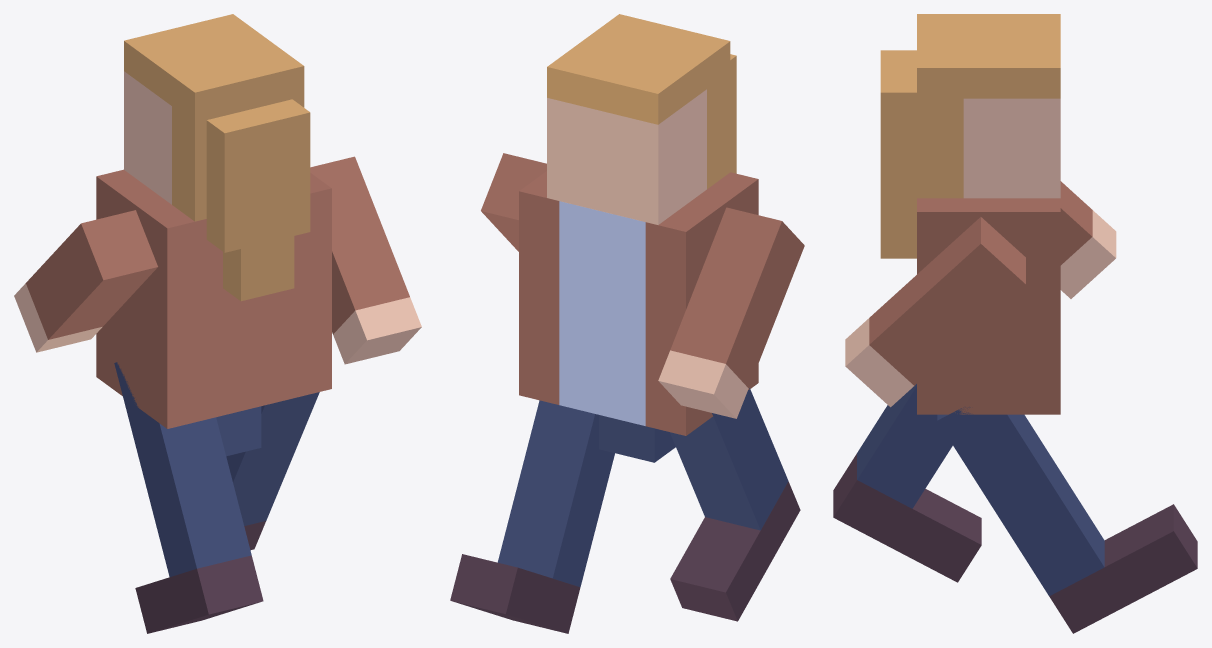
The model's file is new-person-jump-3.2.glb.
3 views of the same model, side by side, from view 1: azimuth 30°, elevation 25°; view 2: azimuth 150°, elevation 25°; view 3: azimuth 270°, elevation 25° (orthographic).
Parts seen in each view (by area): view 1: UNIT.067, UNIT.076, UNIT.073, UNIT.074, UNIT.075; view 2: UNIT.067, UNIT.075, UNIT.076, UNIT.074, UNIT.073; view 3: UNIT.067, UNIT.075, UNIT.073, UNIT.076, UNIT.074.
Part boxes in pixels (bbox=[...]): UNIT.067: bbox=[96, 14, 331, 456]; UNIT.076: bbox=[114, 362, 263, 633]; UNIT.073: bbox=[310, 156, 421, 364]; UNIT.074: bbox=[14, 210, 157, 352]; UNIT.075: bbox=[226, 392, 319, 550]; UNIT.067: bbox=[519, 14, 758, 462]; UNIT.075: bbox=[450, 400, 614, 633]; UNIT.076: bbox=[670, 388, 800, 621]; UNIT.074: bbox=[658, 207, 804, 418]; UNIT.073: bbox=[481, 153, 546, 251]; UNIT.067: bbox=[880, 14, 1060, 445]; UNIT.075: bbox=[937, 407, 1197, 633]; UNIT.073: bbox=[845, 217, 1025, 407]; UNIT.076: bbox=[833, 384, 981, 582]; UNIT.074: bbox=[1060, 181, 1116, 298].
Bounding box in the file's own units: 0.7001 × 1.34 × 0.7982.
2 materials, 2 textured.
